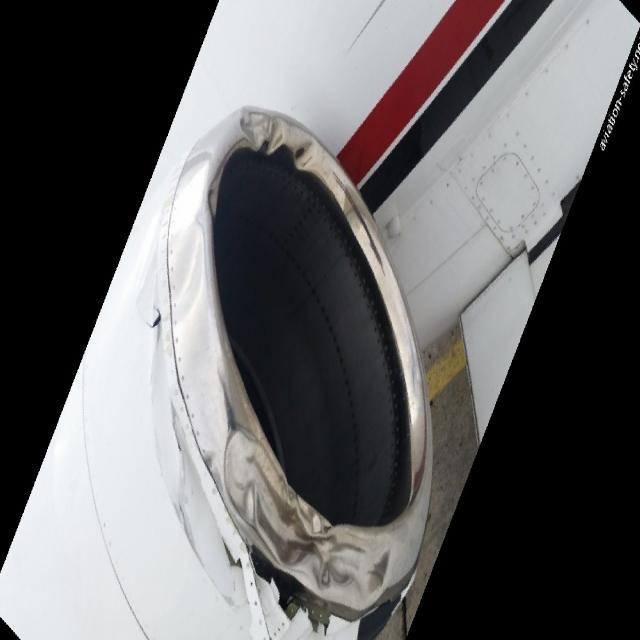dent: (225, 423, 387, 598), (239, 109, 317, 174), (171, 236, 204, 320), (173, 159, 214, 219)
